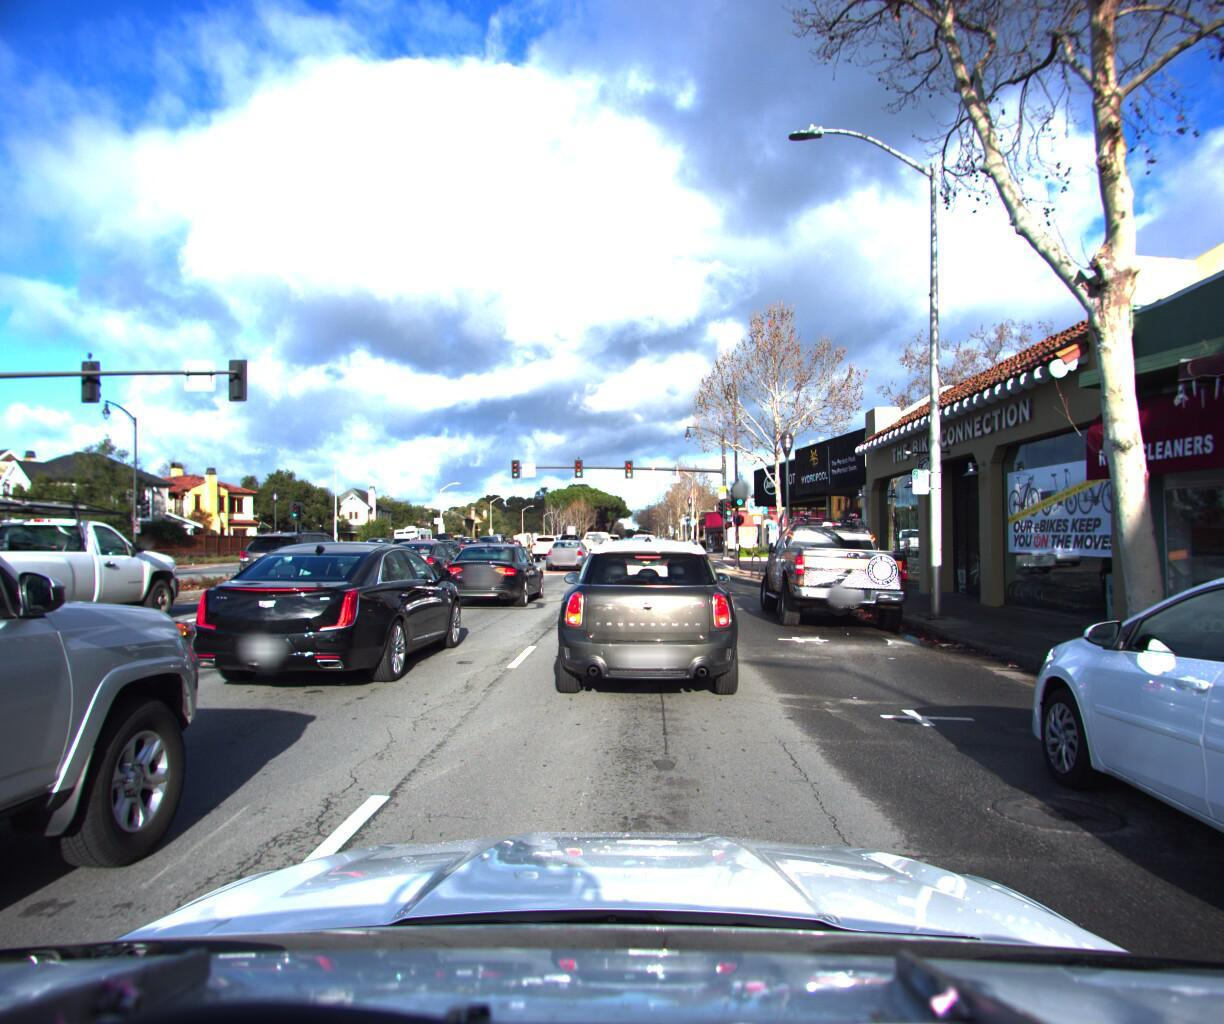car: (0, 0, 228, 1024), (984, 545, 1224, 1024), (171, 545, 471, 701), (0, 475, 198, 658), (550, 535, 746, 703), (750, 501, 926, 633), (236, 527, 368, 596), (436, 540, 549, 609), (603, 531, 690, 603), (380, 536, 478, 589), (542, 533, 594, 569), (577, 525, 615, 556), (380, 529, 425, 554), (353, 532, 396, 554), (530, 530, 565, 554), (629, 527, 657, 558), (453, 532, 486, 550), (608, 528, 628, 543)
